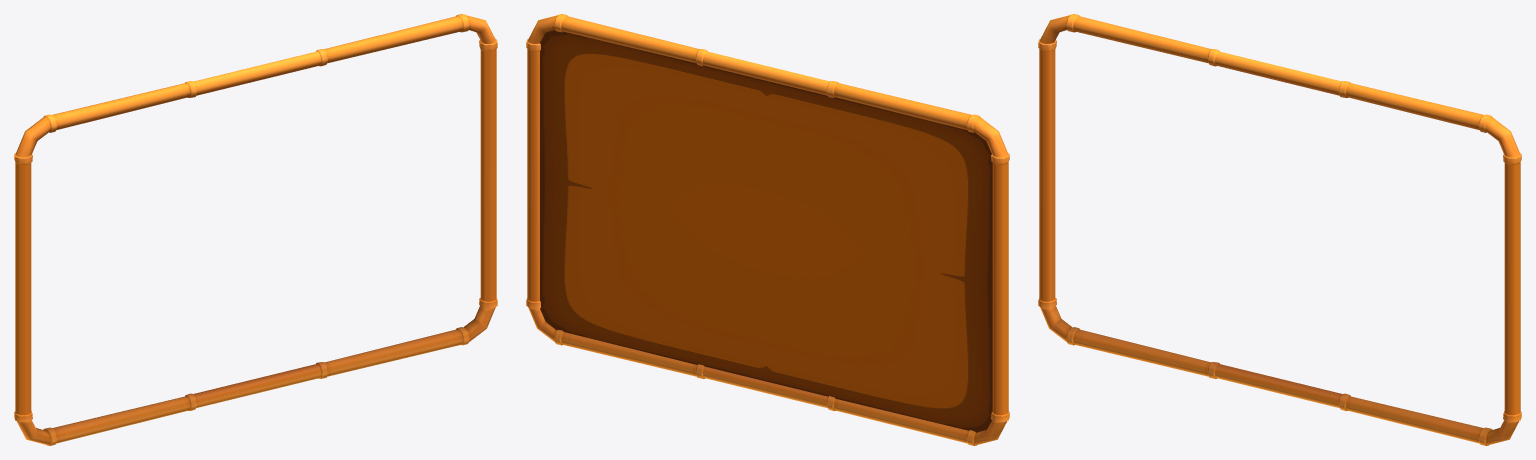
Rendered from workstation_display.glb.
3 views of the same model, side by side, from view 1: azimuth 30°, elevation 25°; view 2: azimuth 150°, elevation 25°; view 3: azimuth 330°, elevation 25° (orthographic).
Visible parts, largest first — view 1: obj_queue; view 2: obj_queue; view 3: obj_queue.
Part boxes in pixels (x1,y1,x2,y2): obj_queue: (14,14,497,445); obj_queue: (526,14,1009,445); obj_queue: (1038,14,1521,445).
Size of what is drawn, in the model's own units: 0.8974 by 0.5866 by 0.0309.
Materials: 2 (2 with a texture image).
